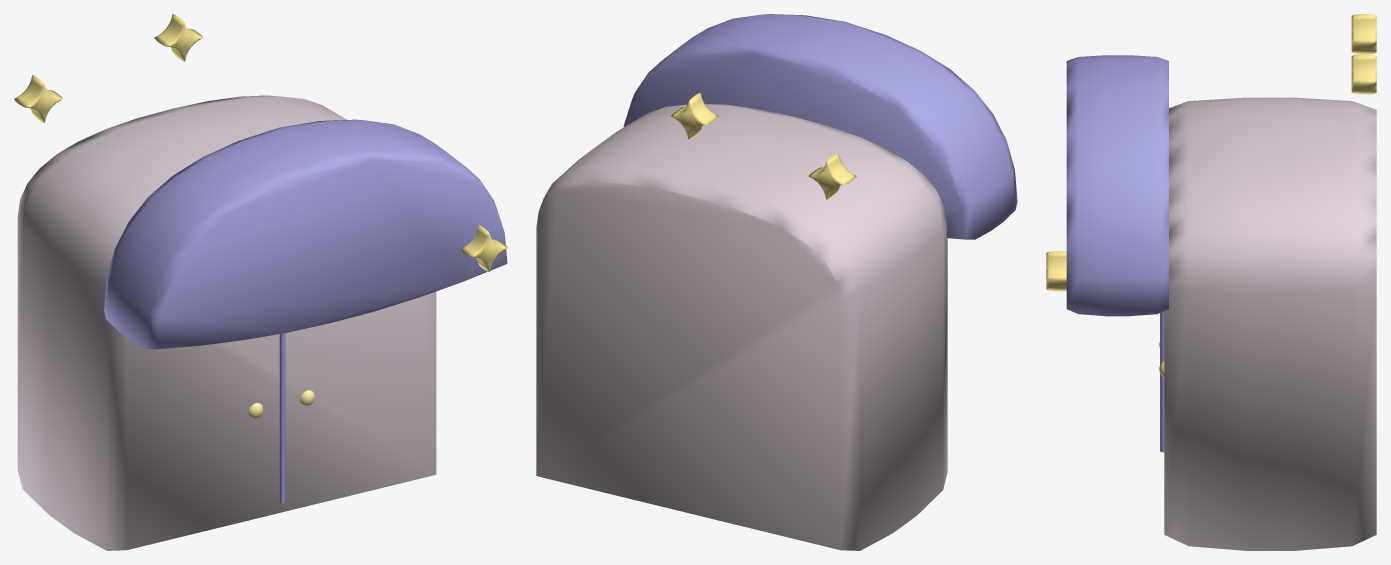
File: decor_4_star.glb
3 views of the same model, side by side, from view 1: azimuth 30°, elevation 25°; view 2: azimuth 150°, elevation 25°; view 3: azimuth 270°, elevation 25° (orthographic). The views are drawn at different scales.
Parts seen in each view (by area): view 1: decor_4_star; view 2: decor_4_star; view 3: decor_4_star.
Part boxes in pixels (bbox=[...]): decor_4_star: bbox=[14, 14, 507, 550]; decor_4_star: bbox=[536, 14, 1017, 550]; decor_4_star: bbox=[1046, 14, 1376, 550].
Bounding box in the file's own units: 14.04 × 15.99 × 11.43.
